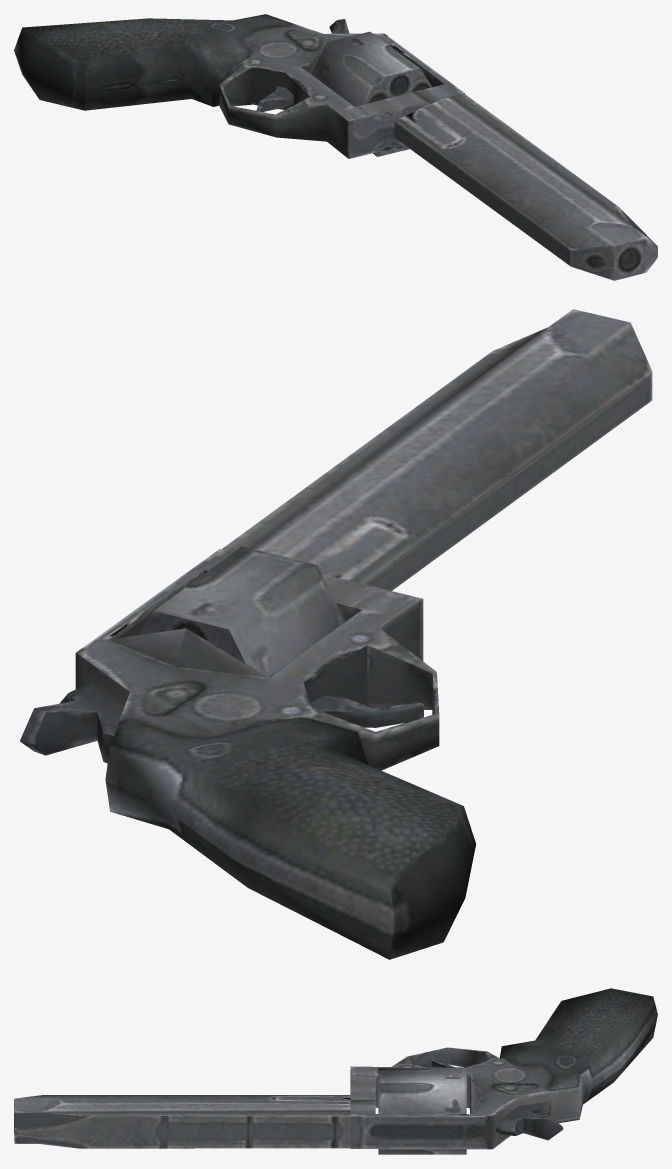
Rendered from Pickup_WeaponSq02.glb.
3 views of the same model, one above another, from view 1: azimuth 30°, elevation 25°; view 2: azimuth 150°, elevation 25°; view 3: azimuth 270°, elevation 25° (orthographic). The views are drawn at different scales.
Parts seen in each view (by area): view 1: pk_weapon_sq02; view 2: pk_weapon_sq02; view 3: pk_weapon_sq02.
Part boxes in pixels (x1=…): pk_weapon_sq02: x1=14, y1=14, x2=657, y2=280; pk_weapon_sq02: x1=20, y1=309, x2=652, y2=959; pk_weapon_sq02: x1=14, y1=988, x2=657, y2=1154.
Bounding box in the file's own units: 0.6777 × 0.1733 × 1.48.
Materials: 1 (1 with a texture image).
